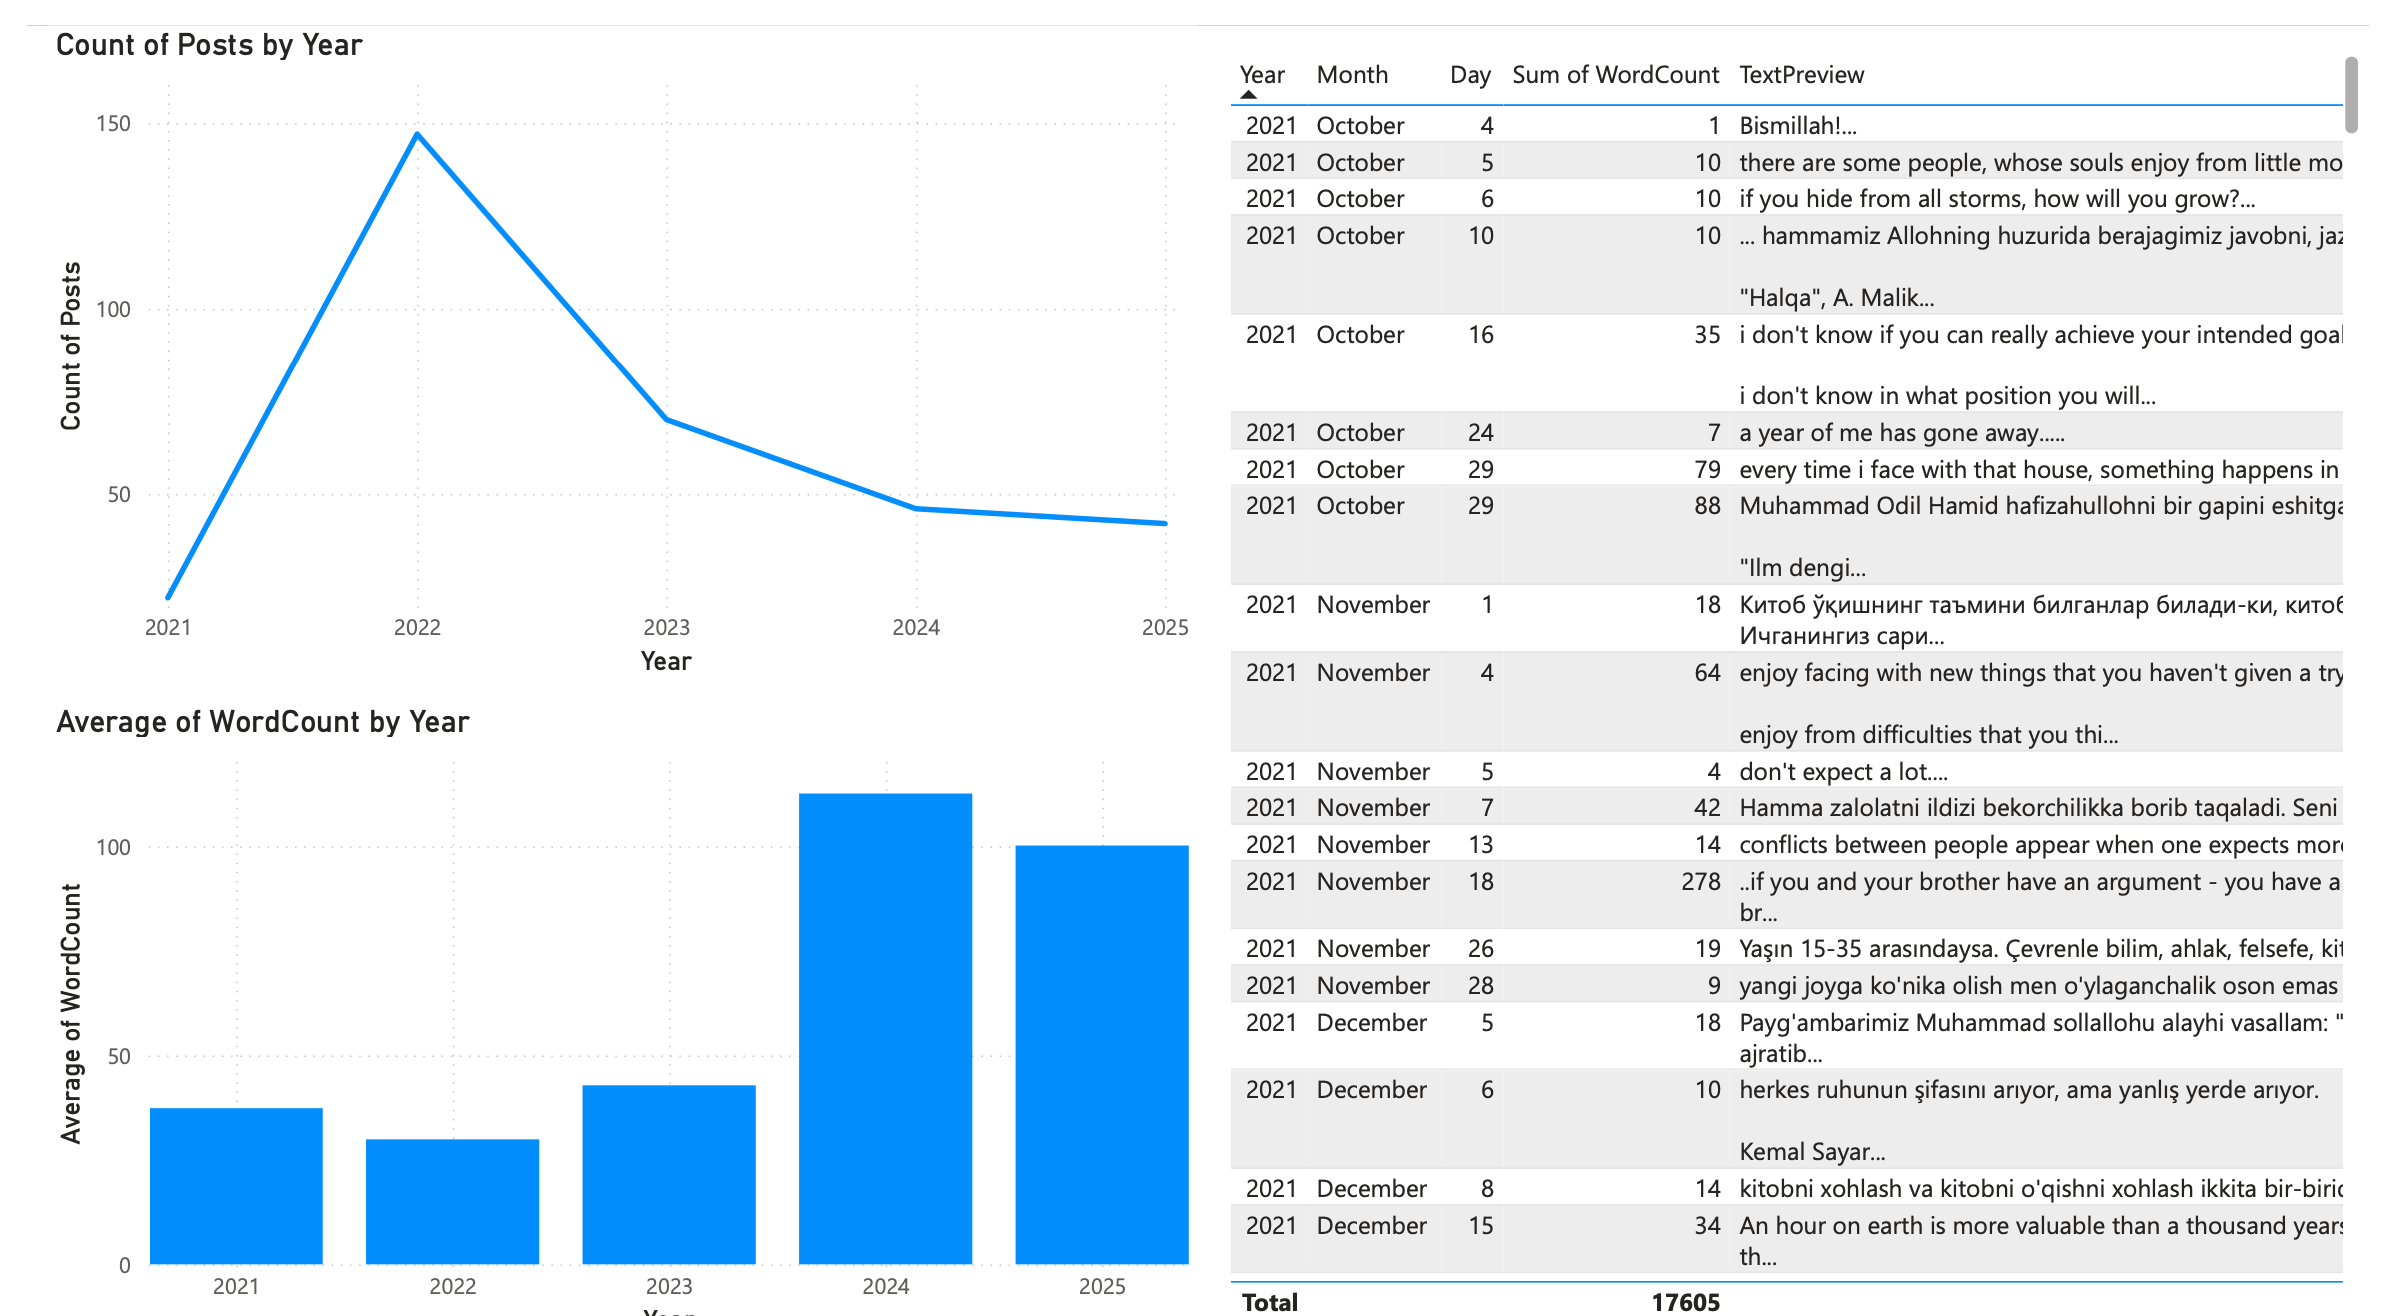

What the dashboard file says about the page in this screenshot:
{"tool":"powerbi","page":{"name":"trends-in-length-of-posts","canvas":[1280,720],"ordinal":1},"visuals":[{"type":"lineChart","fields":{"Y":["result.messages.id"],"Category":["result.Year"]},"box":[10.7,0,629.3,359.8],"z":0},{"type":"columnChart","fields":{"Category":["result.Year"],"Y":["result.WordCount"]},"box":[11,370,629,350],"z":1000},{"type":"tableEx","fields":{"Values":["result.messages.date.Variation.Date Hierarchy.Year","result.messages.date.Variation.Date Hierarchy.Month","result.messages.date.Variation.Date Hierarchy.Day","result.WordCount","result.TextPreview"]},"box":[652.2,10.7,627.8,708.9],"z":2000}]}

Visuals, with their boxes in screenshot pixels (x1, y1, x2, y2), scaled from the page's 1280x720 canvas onto the 2384x1316 screenshot:
lineChart - result.messages.id x result.Year: region(20, 0, 1192, 658)
columnChart - result.Year x result.WordCount: region(20, 676, 1192, 1315)
tableEx - result.messages.date.Variation.Date Hierarchy.Year x result.messages.date.Variation.Date Hierarchy.Month: region(1215, 20, 2383, 1315)
